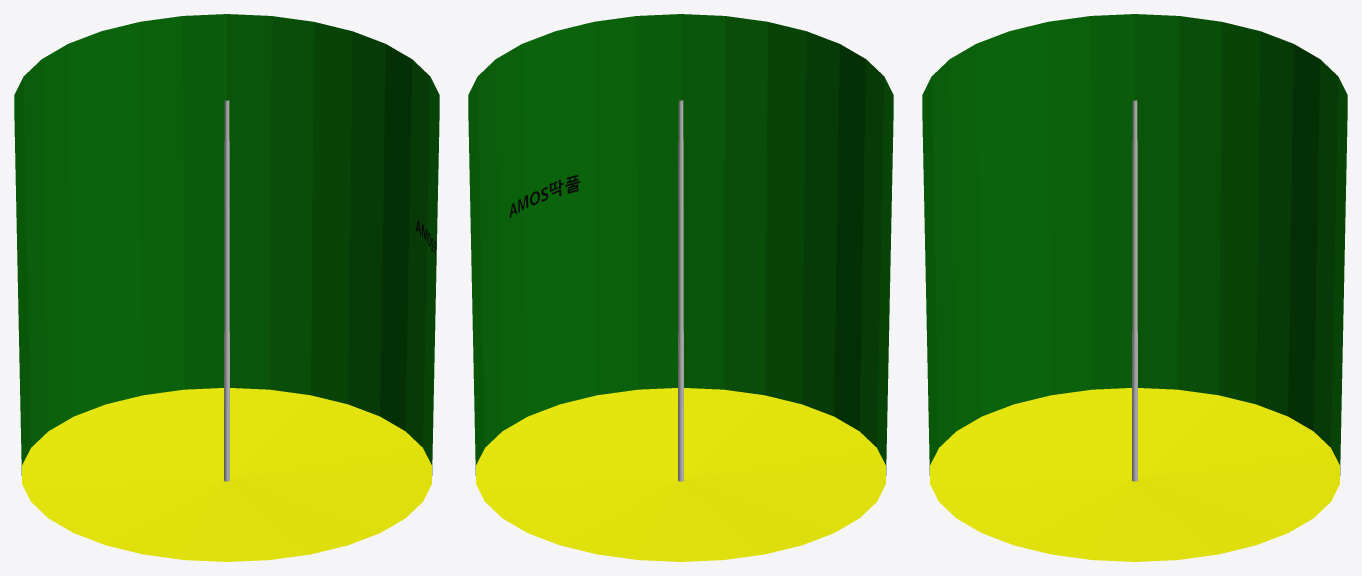
3 renders of one model, left to right at view 1: azimuth 30°, elevation 25°; view 2: azimuth 150°, elevation 25°; view 3: azimuth 270°, elevation 25°, orthographic.
Visible parts, largest first — view 1: algeomath; view 2: algeomath, 스티커; view 3: algeomath.
Part boxes in pixels (box(x1,y1,x2,y2)): algeomath: box(14, 14, 439, 561); algeomath: box(468, 14, 893, 561); 스티커: box(509, 175, 580, 217); algeomath: box(922, 14, 1347, 561).
Size of the model in its own units: 6.14 by 6.03 by 6.1.
2 materials, 2 textured.
